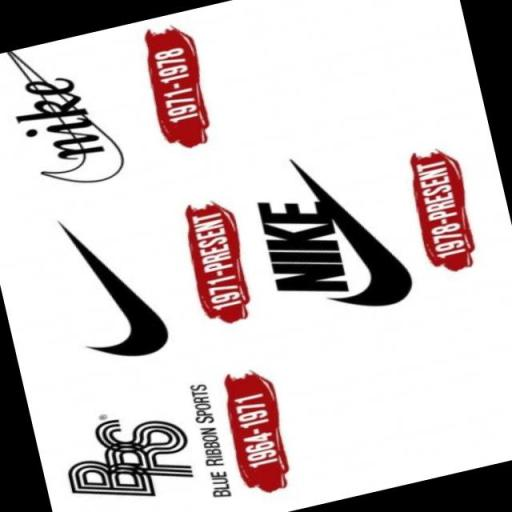Nike: (51, 196, 180, 370), (253, 183, 349, 306)
